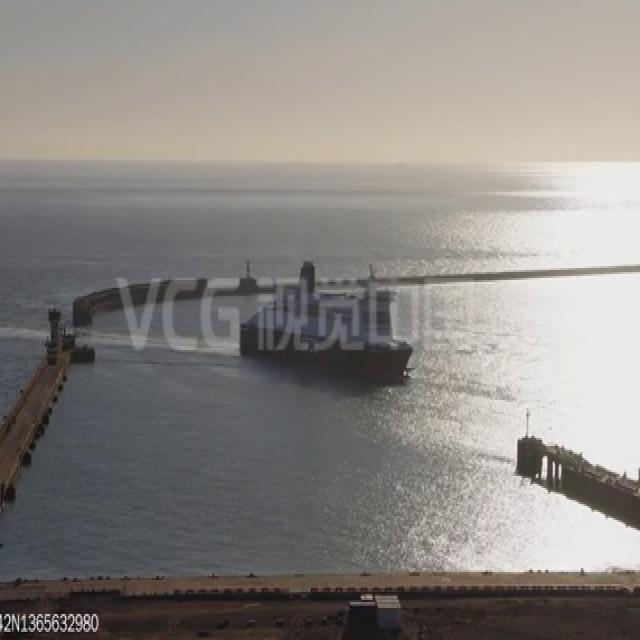passenger ship: (238, 258, 412, 387)
